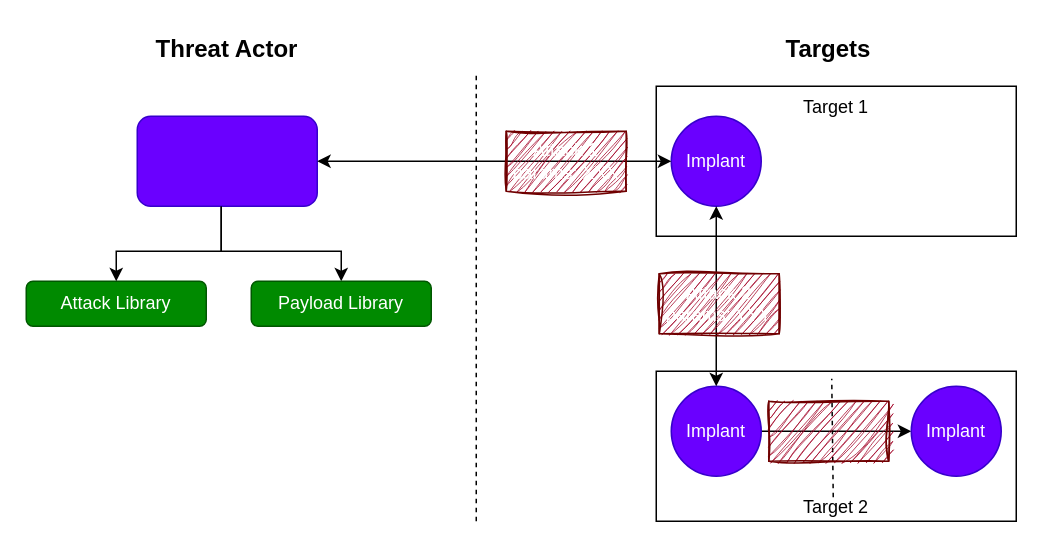
This 1043x549 diagram has some shape labels left out. Here are the shapes that lost their labels. From the top down, the centre of each, then its label:
At (226,160): "C2".
At (828,430): "Attack 3 params: ZZZ".
